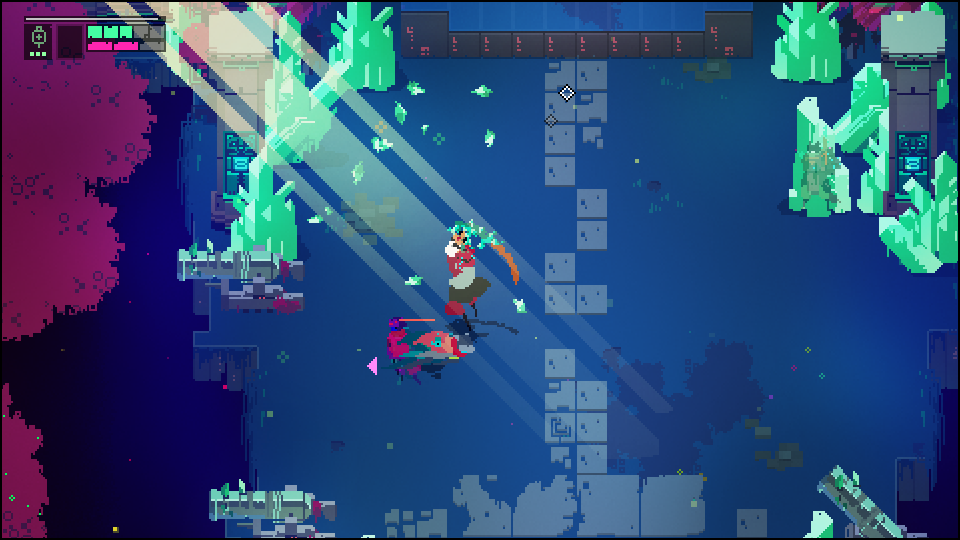hanged_man: (441, 220, 521, 333)
player: (416, 326, 476, 367)
